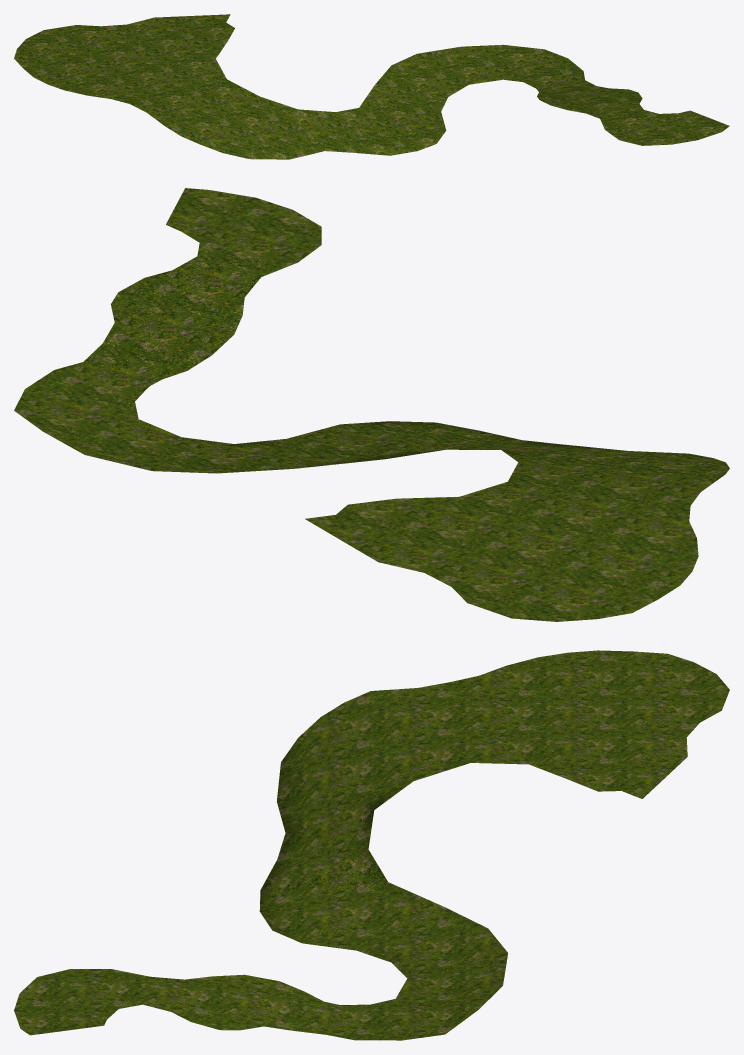
Rendered from OVERHILL_A_01_SHAPE02.fbx.
The picture shows the model from 3 angles, top to bottom: view 1: azimuth 30°, elevation 25°; view 2: azimuth 150°, elevation 25°; view 3: azimuth 270°, elevation 25°; orthographic projection. The views are drawn at different scales.
Visible parts, largest first — view 1: OVERHILL_A_01_SHAPE02; view 2: OVERHILL_A_01_SHAPE02; view 3: OVERHILL_A_01_SHAPE02.
Part boxes in pixels (x1=…): OVERHILL_A_01_SHAPE02: x1=14, y1=14, x2=729, y2=159; OVERHILL_A_01_SHAPE02: x1=14, y1=188, x2=729, y2=621; OVERHILL_A_01_SHAPE02: x1=14, y1=650, x2=729, y2=1040.
Size of the model in its own units: 203816 by 21088 by 176787.
Materials: 1 (1 with a texture image).
